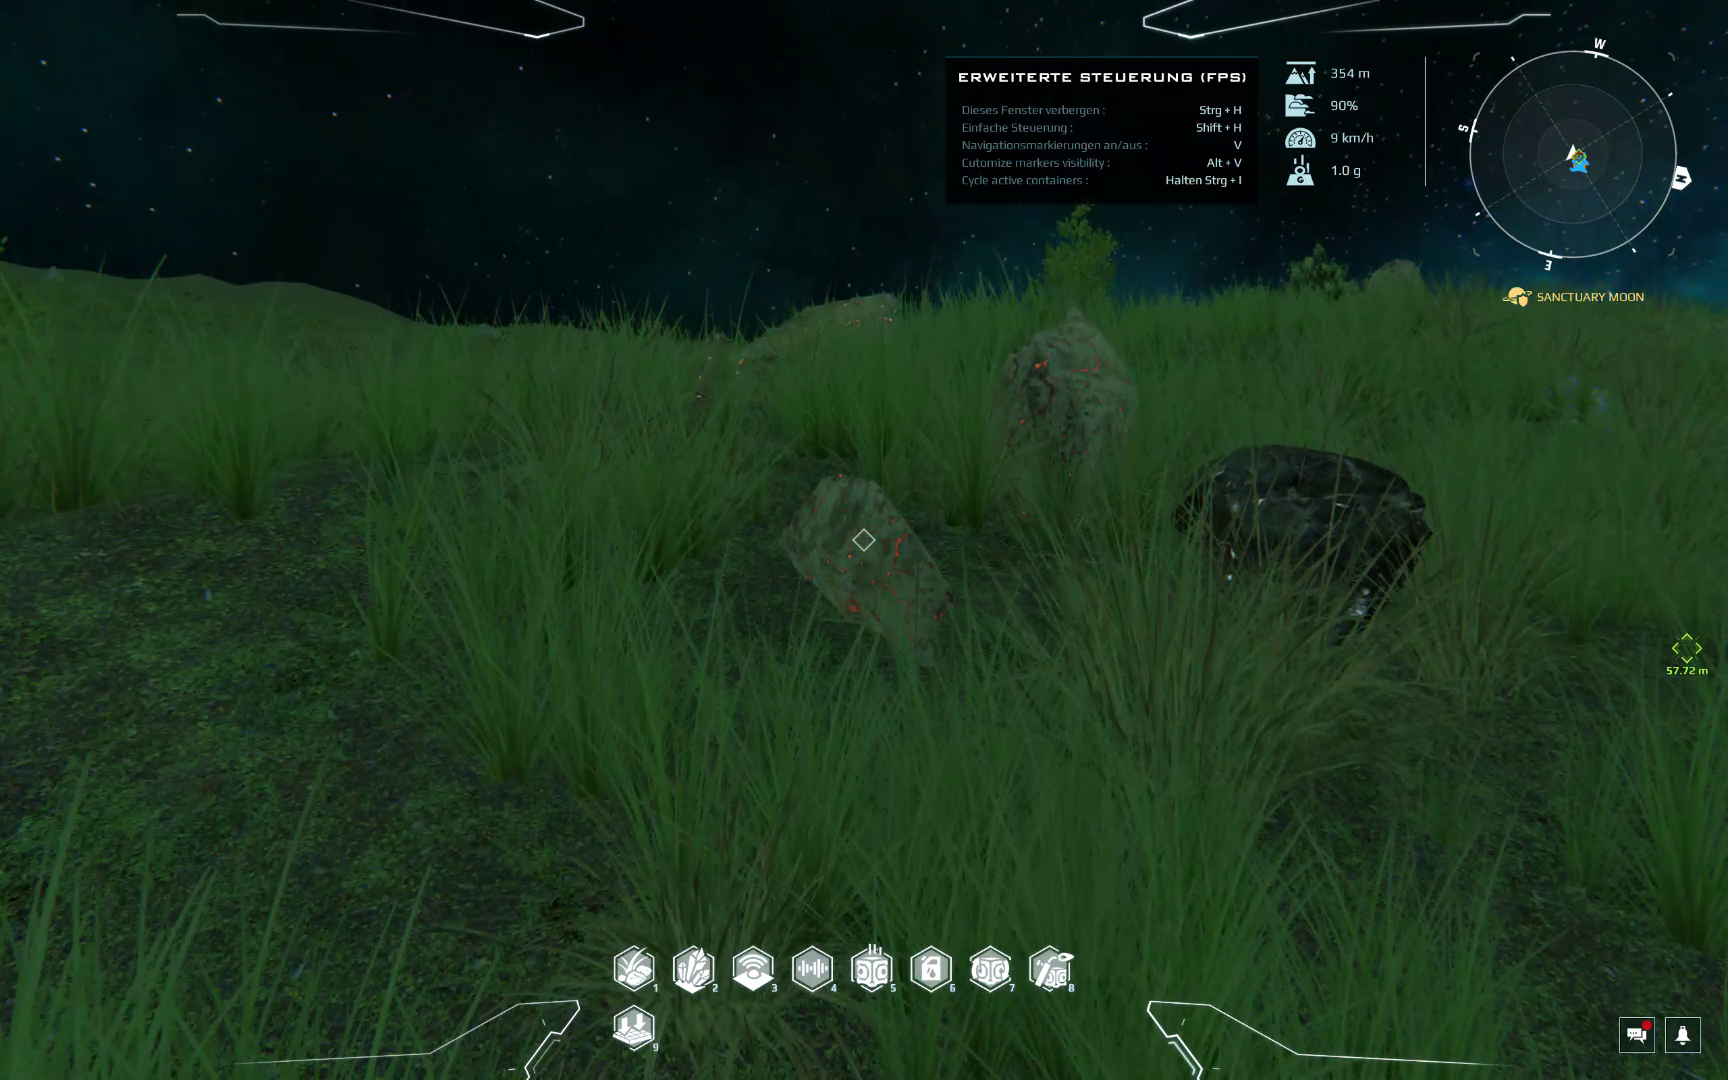Ore: (1168, 442, 1433, 645), (778, 472, 955, 678), (685, 291, 899, 416), (996, 319, 1133, 508)
